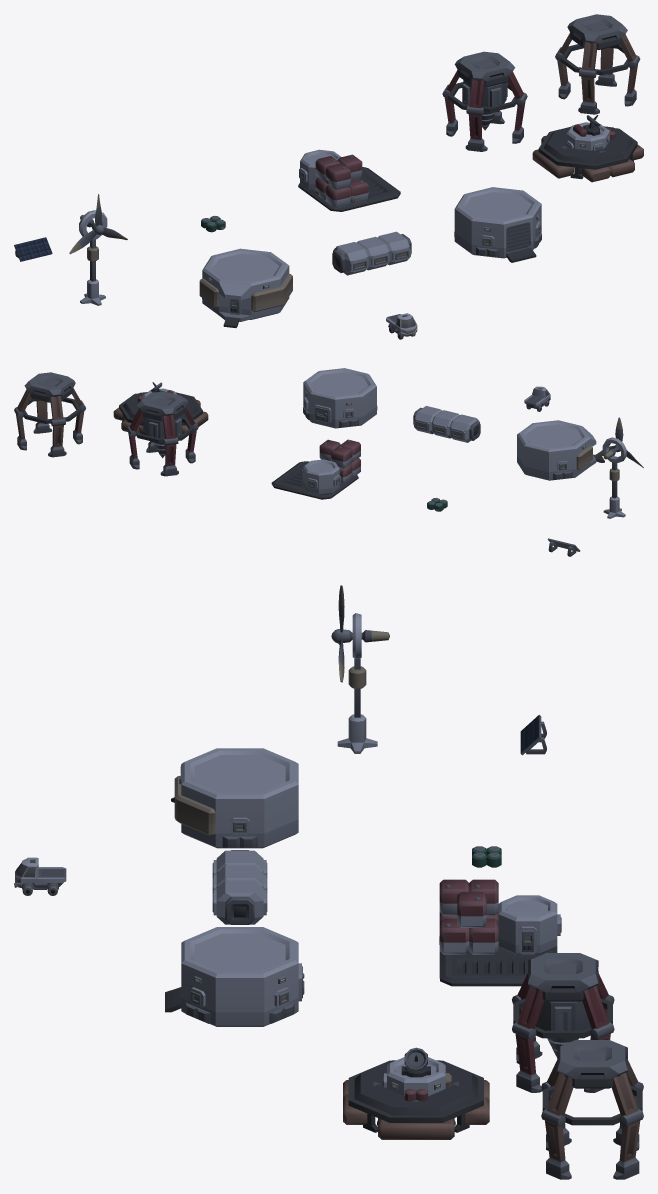
The model's file is base_camp_dark.glb.
3 renders of one model, top to bottom at view 1: azimuth 30°, elevation 25°; view 2: azimuth 150°, elevation 25°; view 3: azimuth 270°, elevation 25°, orthographic. The views are drawn at different scales.
Visible parts, largest first — view 1: basemodule_A, basemodule_garage, structure_tall, drill_structure, cargodepot_A, landingpad_large, tunnel_straight_A, lander_A, windturbine_tall_fan, drill_module, windturbine_tall, solarpanel (+2 smaller); view 2: basemodule_A, basemodule_garage, structure_tall, cargodepot_A, drill_structure, tunnel_straight_A, landingpad_large, windturbine_tall_fan, drill_module, windturbine_tall, spacetruck, solarpanel; view 3: basemodule_garage, basemodule_A, cargodepot_A, structure_tall, landingpad_large, drill_structure, tunnel_straight_A, lander_A, drill_module, windturbine_tall, windturbine_tall_fan, spacetruck.
Boxes of the visible parts, x1,y1,x2,y2 form: basemodule_A: (199,248,292,327); basemodule_garage: (454,187,541,262); structure_tall: (555,14,640,114); drill_structure: (442,51,527,151); cargodepot_A: (298,149,400,211); landingpad_large: (532,126,643,182); tunnel_straight_A: (332,231,411,275); lander_A: (566,115,615,174); windturbine_tall_fan: (69,194,127,254); drill_module: (462,80,507,130); windturbine_tall: (80,239,105,305); solarpanel: (14,237,52,261); basemodule_A: (517,420,604,480); basemodule_garage: (303,368,377,428); structure_tall: (14,372,85,457); cargodepot_A: (271,439,360,499); drill_structure: (126,391,198,476); tunnel_straight_A: (413,406,480,442); landingpad_large: (113,392,208,435); windturbine_tall_fan: (594,417,643,467); drill_module: (143,415,181,458); windturbine_tall: (603,462,625,518); spacetruck: (524,386,550,409); solarpanel: (547,538,580,556); basemodule_garage: (165,927,304,1026); basemodule_A: (171,748,298,848); cargodepot_A: (439,879,561,986); structure_tall: (541,1040,643,1179); landingpad_large: (343,1060,489,1139); drill_structure: (512,953,614,1092); tunnel_straight_A: (212,850,267,924); lander_A: (377,1047,455,1125); drill_module: (535,1000,590,1057); windturbine_tall: (337,658,377,753); windturbine_tall_fan: (331,585,389,682); spacetruck: (14,857,66,889).
Bounding box in the file's own units: 18.41 × 3.08 × 10.72.
12 materials, 12 textured.
